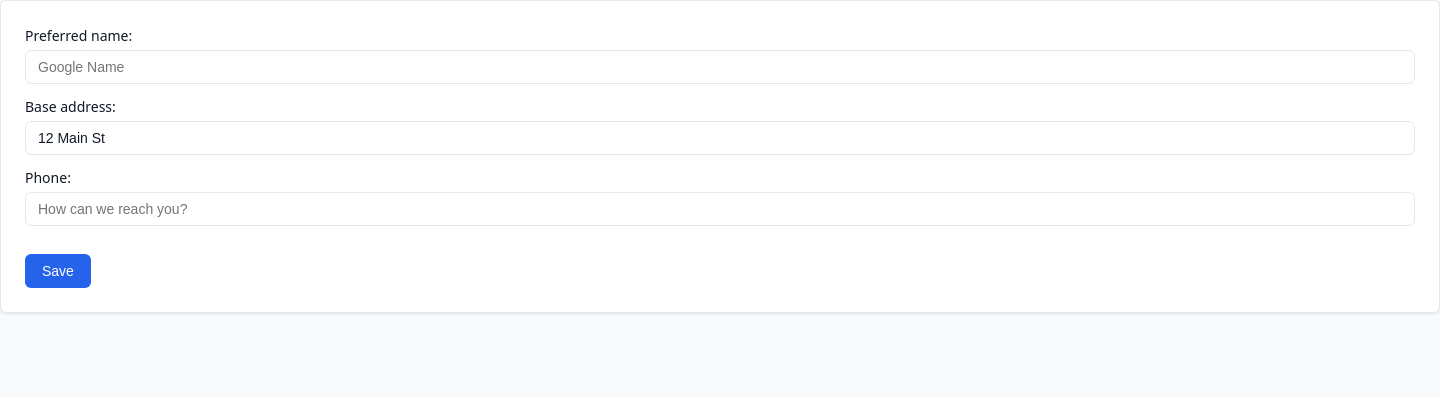
Scenario: ProfileForm › omits the customer-only "before booking" wording for a technician
The image size is (1440, 397).
Click the button "Save" at [58, 271], box [25, 254, 91, 288]
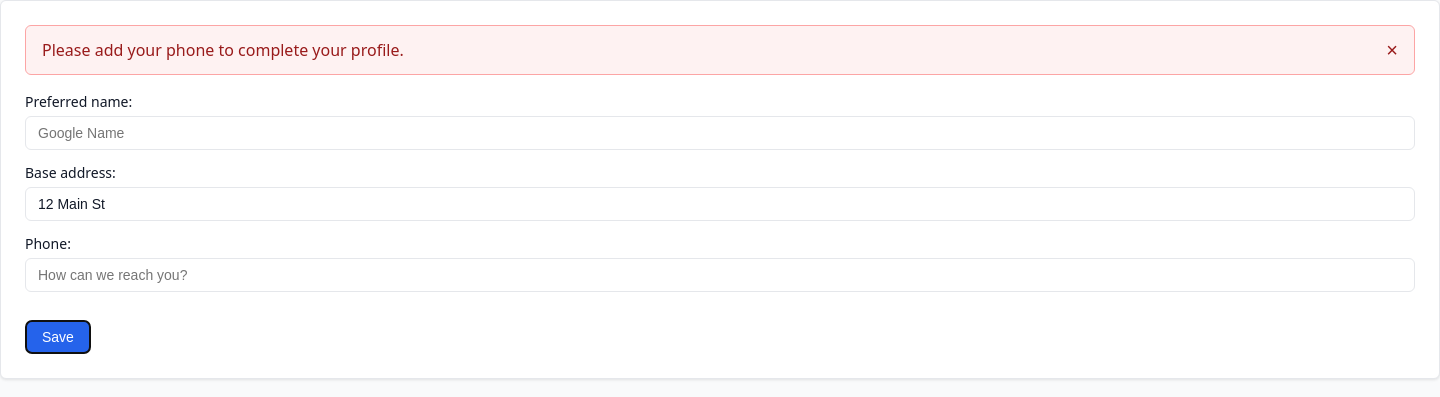
Check: the text "Please add your phone to complete your profile." is shown, box [42, 38, 404, 62]
